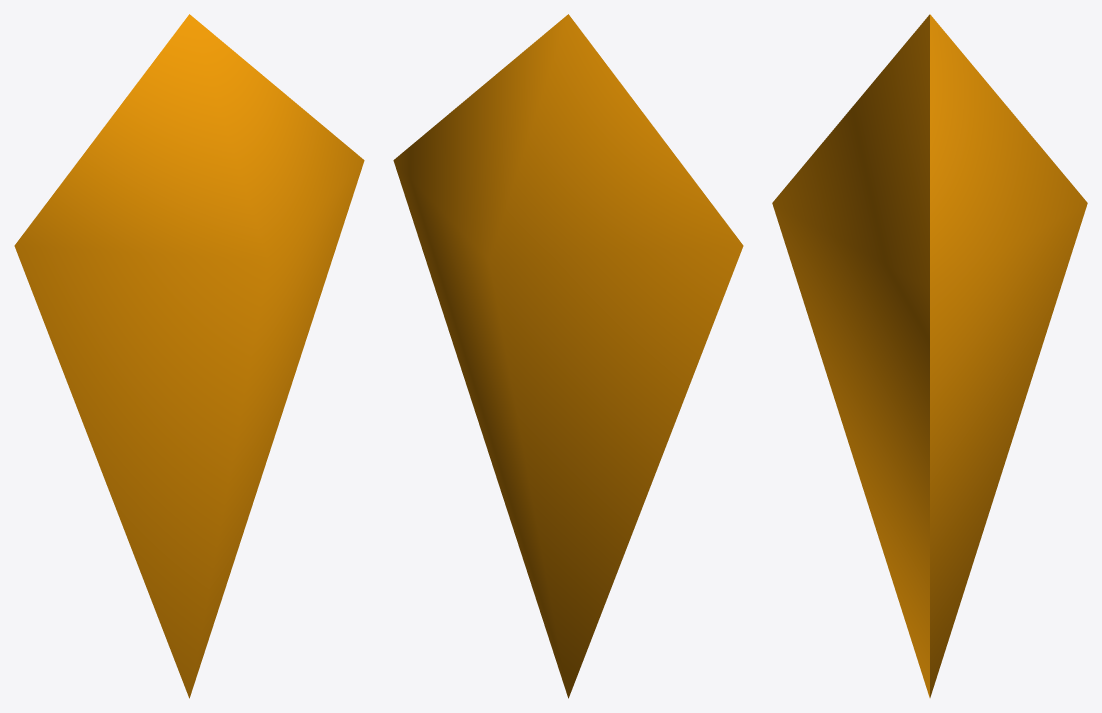
File: Diamond_TypeA.FBX
3 views of the same model, side by side, from view 1: azimuth 30°, elevation 25°; view 2: azimuth 150°, elevation 25°; view 3: azimuth 270°, elevation 25° (orthographic).
Visible parts, largest first — view 1: Diamond_TypeA; view 2: Diamond_TypeA; view 3: Diamond_TypeA.
Boxes of the visible parts, left/top/right/bottom form: Diamond_TypeA: left=14, top=14, right=364, bottom=698; Diamond_TypeA: left=393, top=14, right=743, bottom=698; Diamond_TypeA: left=772, top=14, right=1087, bottom=697.
Bounding box in the file's own units: 15.01 × 28.05 × 11.71.
